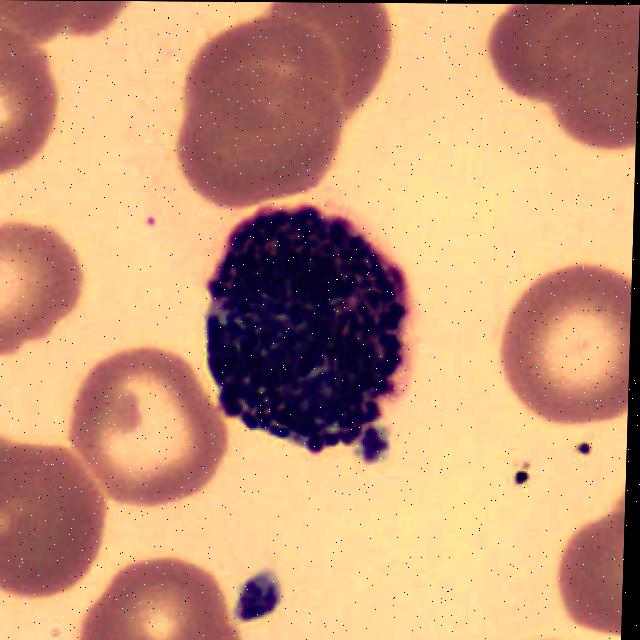basophil: (196, 201, 409, 446)
platelets: (225, 566, 292, 630)
rbc: (64, 343, 224, 501), (484, 261, 632, 431), (178, 80, 341, 205), (164, 24, 352, 131), (0, 444, 90, 598), (74, 556, 239, 640), (0, 215, 94, 360), (549, 460, 626, 636), (263, 2, 408, 93), (531, 4, 636, 102), (558, 33, 639, 152), (0, 31, 50, 184), (480, 4, 561, 97), (0, 0, 130, 48)
